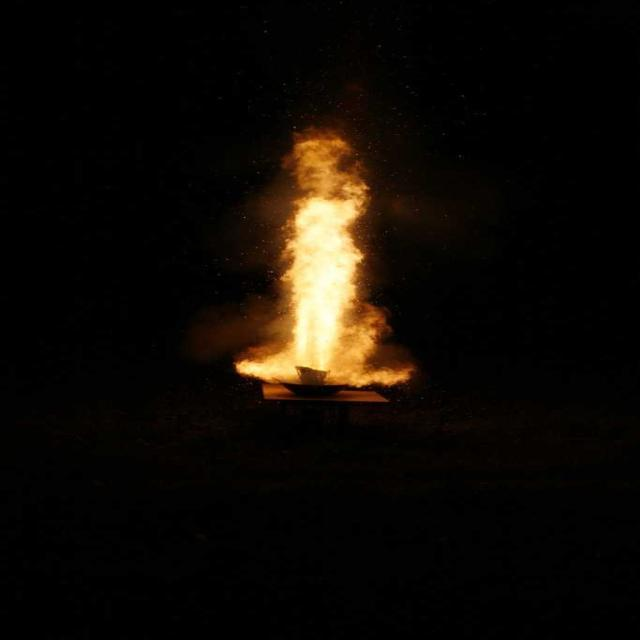Fire: (232, 111, 412, 392)
